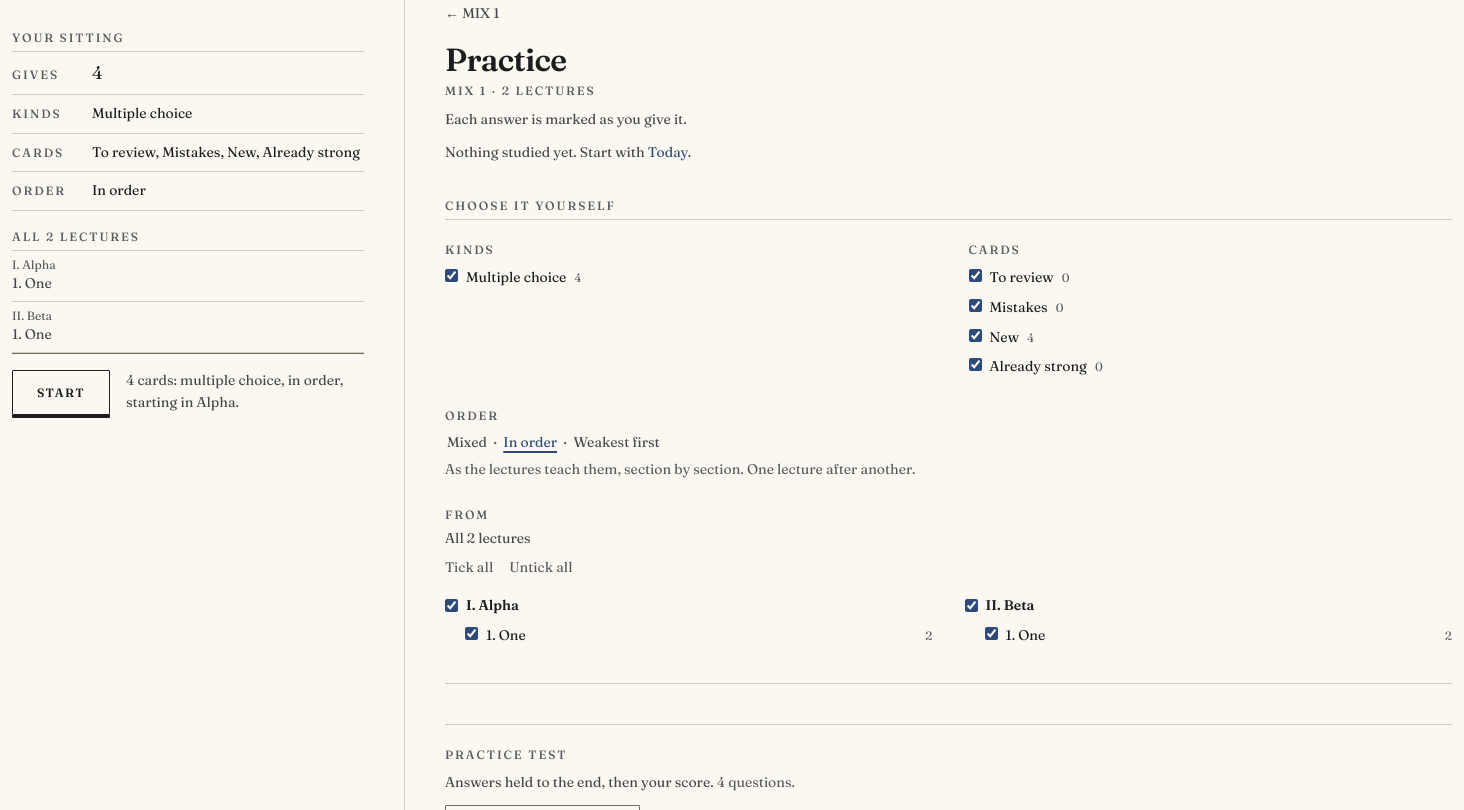
Scenario: a class's Practice: built by ticks › takes the lectures one after another in order, mixes them when Mixed is picked, and remembers it
Later steps or results of the test are not shown.
Check: the text "4 cards: multiple choice, in order, starting in Alpha." is shown, box [126,370,364,414]
Click the button "Mixed" at (467, 443), box [445,432,489,454]
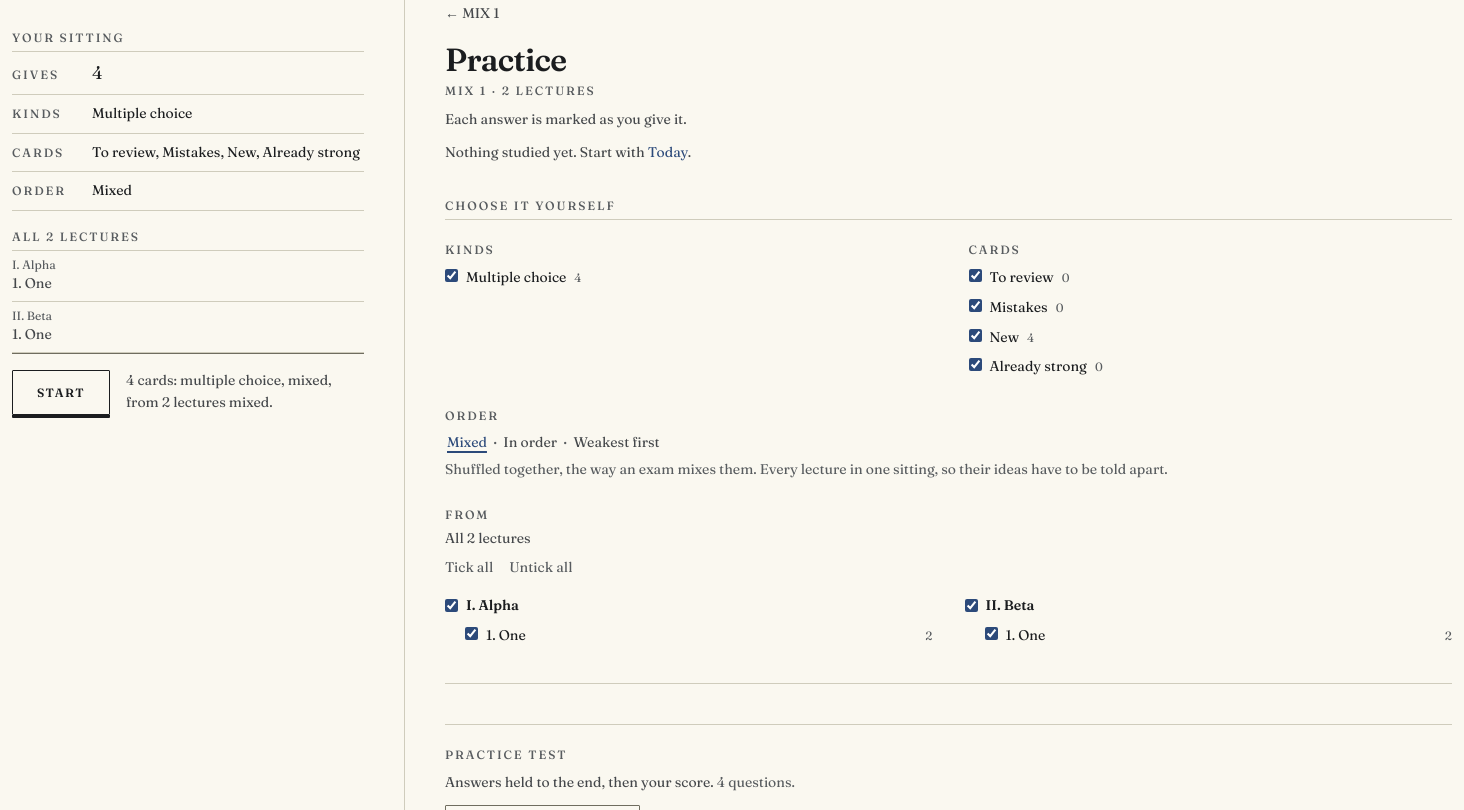
Check: the text "4 cards: multiple choice, mixed, from 2 lectures mixed." is shown, box [126,370,364,414]
